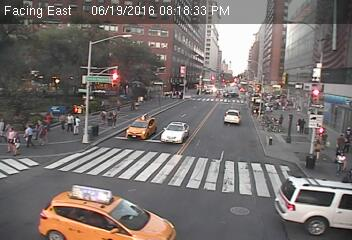neg: (311, 84, 325, 102), (176, 63, 189, 80), (162, 83, 175, 100), (258, 81, 262, 88)
pos: (332, 151, 351, 178), (1, 124, 20, 150), (19, 124, 37, 149), (312, 139, 328, 160), (69, 115, 85, 136), (9, 139, 24, 159), (60, 109, 75, 129), (54, 110, 69, 130), (333, 132, 347, 151), (42, 108, 56, 127), (297, 116, 309, 132), (104, 111, 116, 127), (293, 118, 304, 133), (96, 107, 107, 122), (108, 106, 119, 121), (34, 120, 45, 134), (132, 100, 139, 110)
